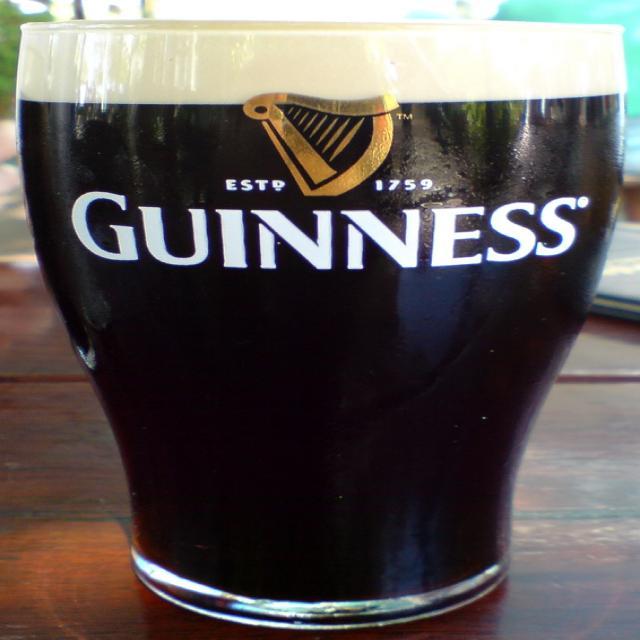guiness: (66, 91, 582, 273)
